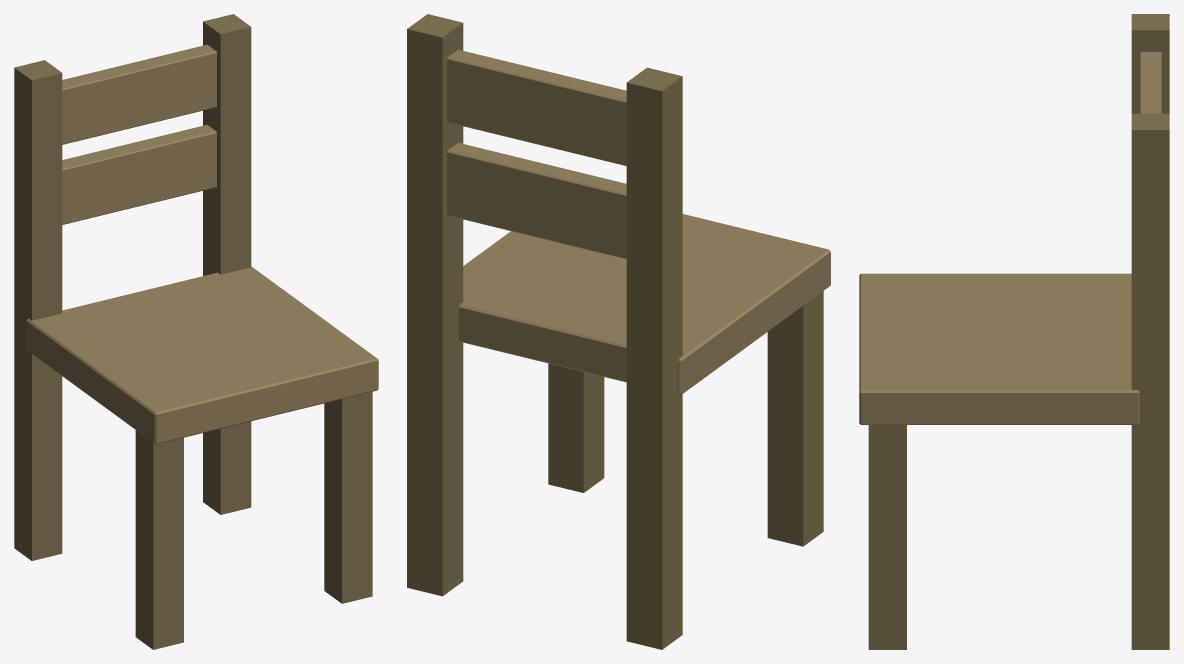
Rendered from chair.glb.
3 views of the same model, side by side, from view 1: azimuth 30°, elevation 25°; view 2: azimuth 150°, elevation 25°; view 3: azimuth 270°, elevation 25° (orthographic). The views are drawn at different scales.
Visible parts, largest first — view 1: Wooden seat; view 2: Wooden seat; view 3: Wooden seat.
Part boxes in pixels (bbox=[...]): Wooden seat: bbox=[14, 14, 378, 649]; Wooden seat: bbox=[407, 14, 830, 649]; Wooden seat: bbox=[859, 14, 1169, 649].
Bounding box in the file's own units: 0.44 × 0.9 × 0.487.
